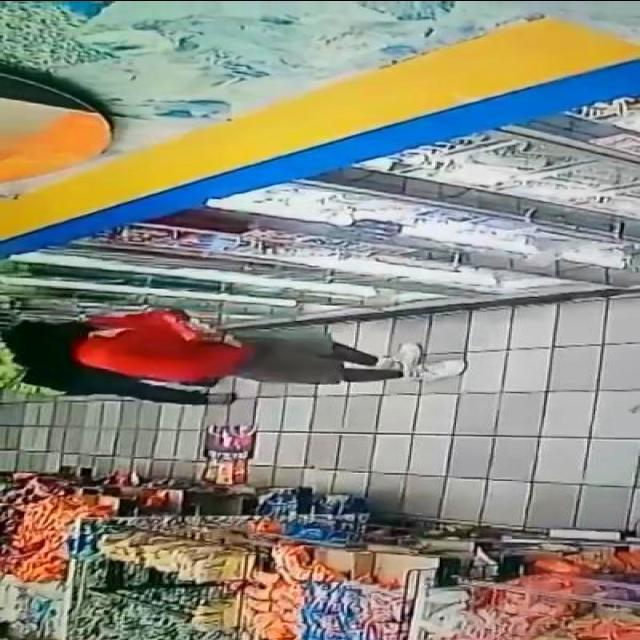Shoplifting: (0, 270, 509, 415)
